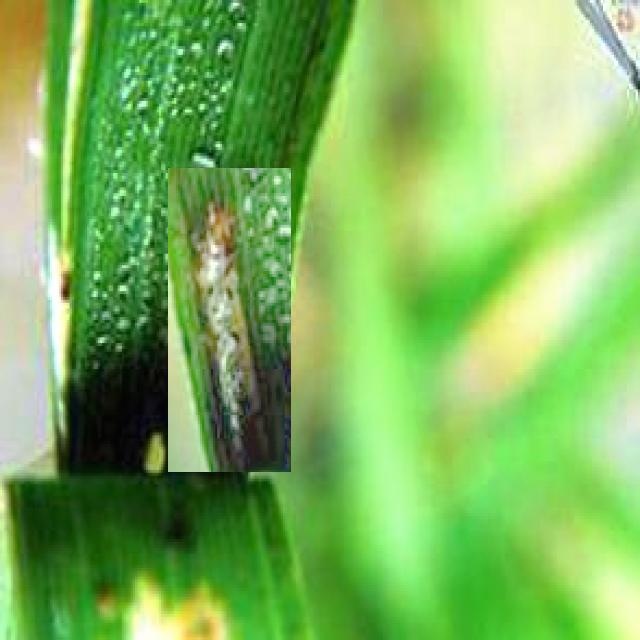leaf-folder: (168, 169, 291, 473)
